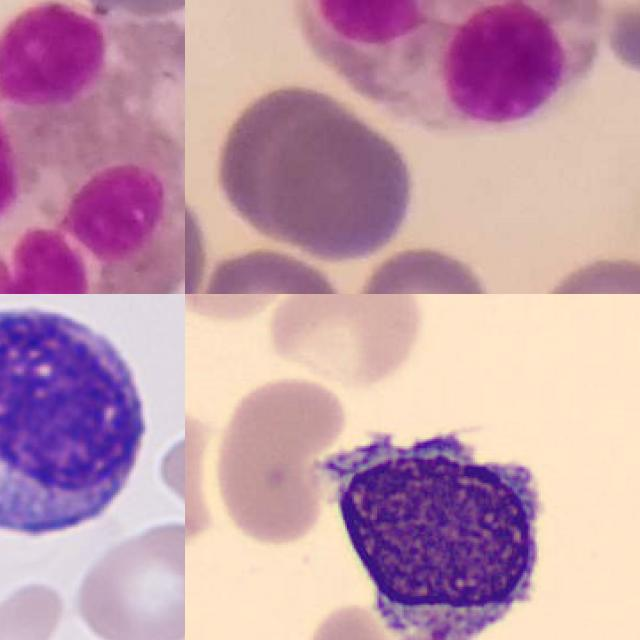Eosinophil: (0, 1, 185, 294), (286, 0, 601, 140)
Lymphocyte: (309, 405, 556, 640), (0, 294, 157, 552)
RBC: (208, 372, 352, 548), (263, 294, 430, 389), (70, 516, 185, 640), (297, 596, 459, 640), (0, 573, 72, 640), (152, 415, 185, 529), (185, 294, 307, 324)
